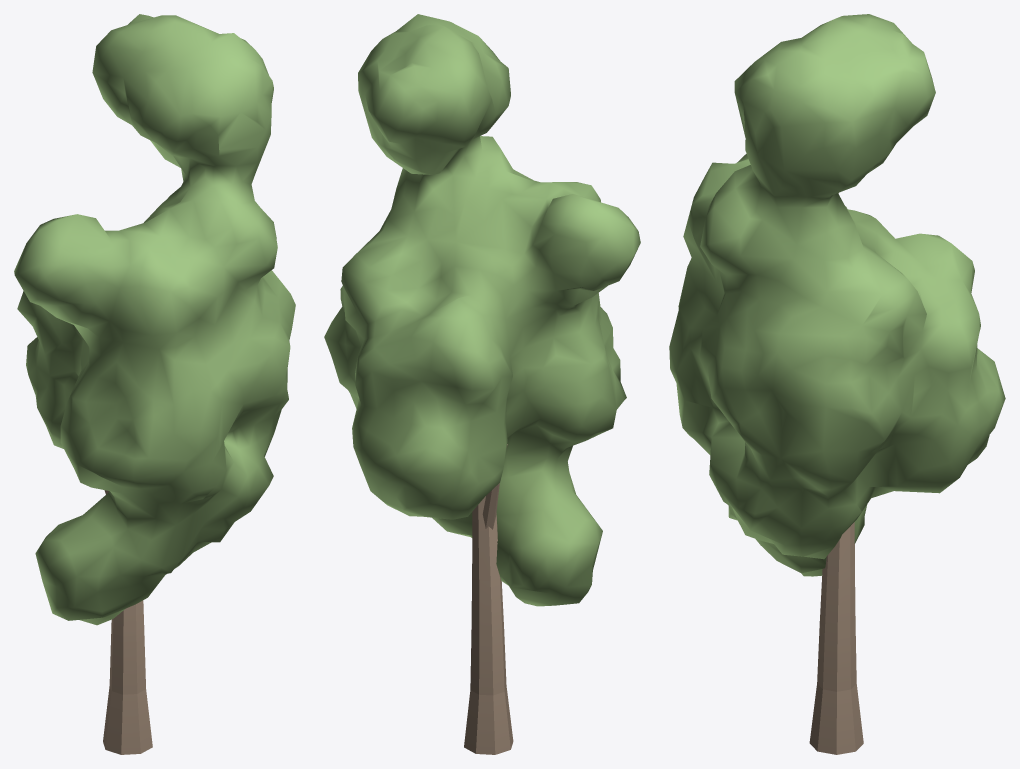
File: tree_poplar.glb
3 renders of one model, left to right at view 1: azimuth 30°, elevation 25°; view 2: azimuth 150°, elevation 25°; view 3: azimuth 270°, elevation 25°, orthographic. The views are drawn at different scales.
Parts seen in each view (by area): view 1: tree_poplar; view 2: tree_poplar; view 3: tree_poplar.
Part boxes in pixels (left/top/right/bottom): tree_poplar: left=14, top=14, right=295, bottom=754; tree_poplar: left=324, top=14, right=640, bottom=754; tree_poplar: left=669, top=14, right=1005, bottom=754.
Bounding box in the file's own units: 4.7 × 11.36 × 4.63.
